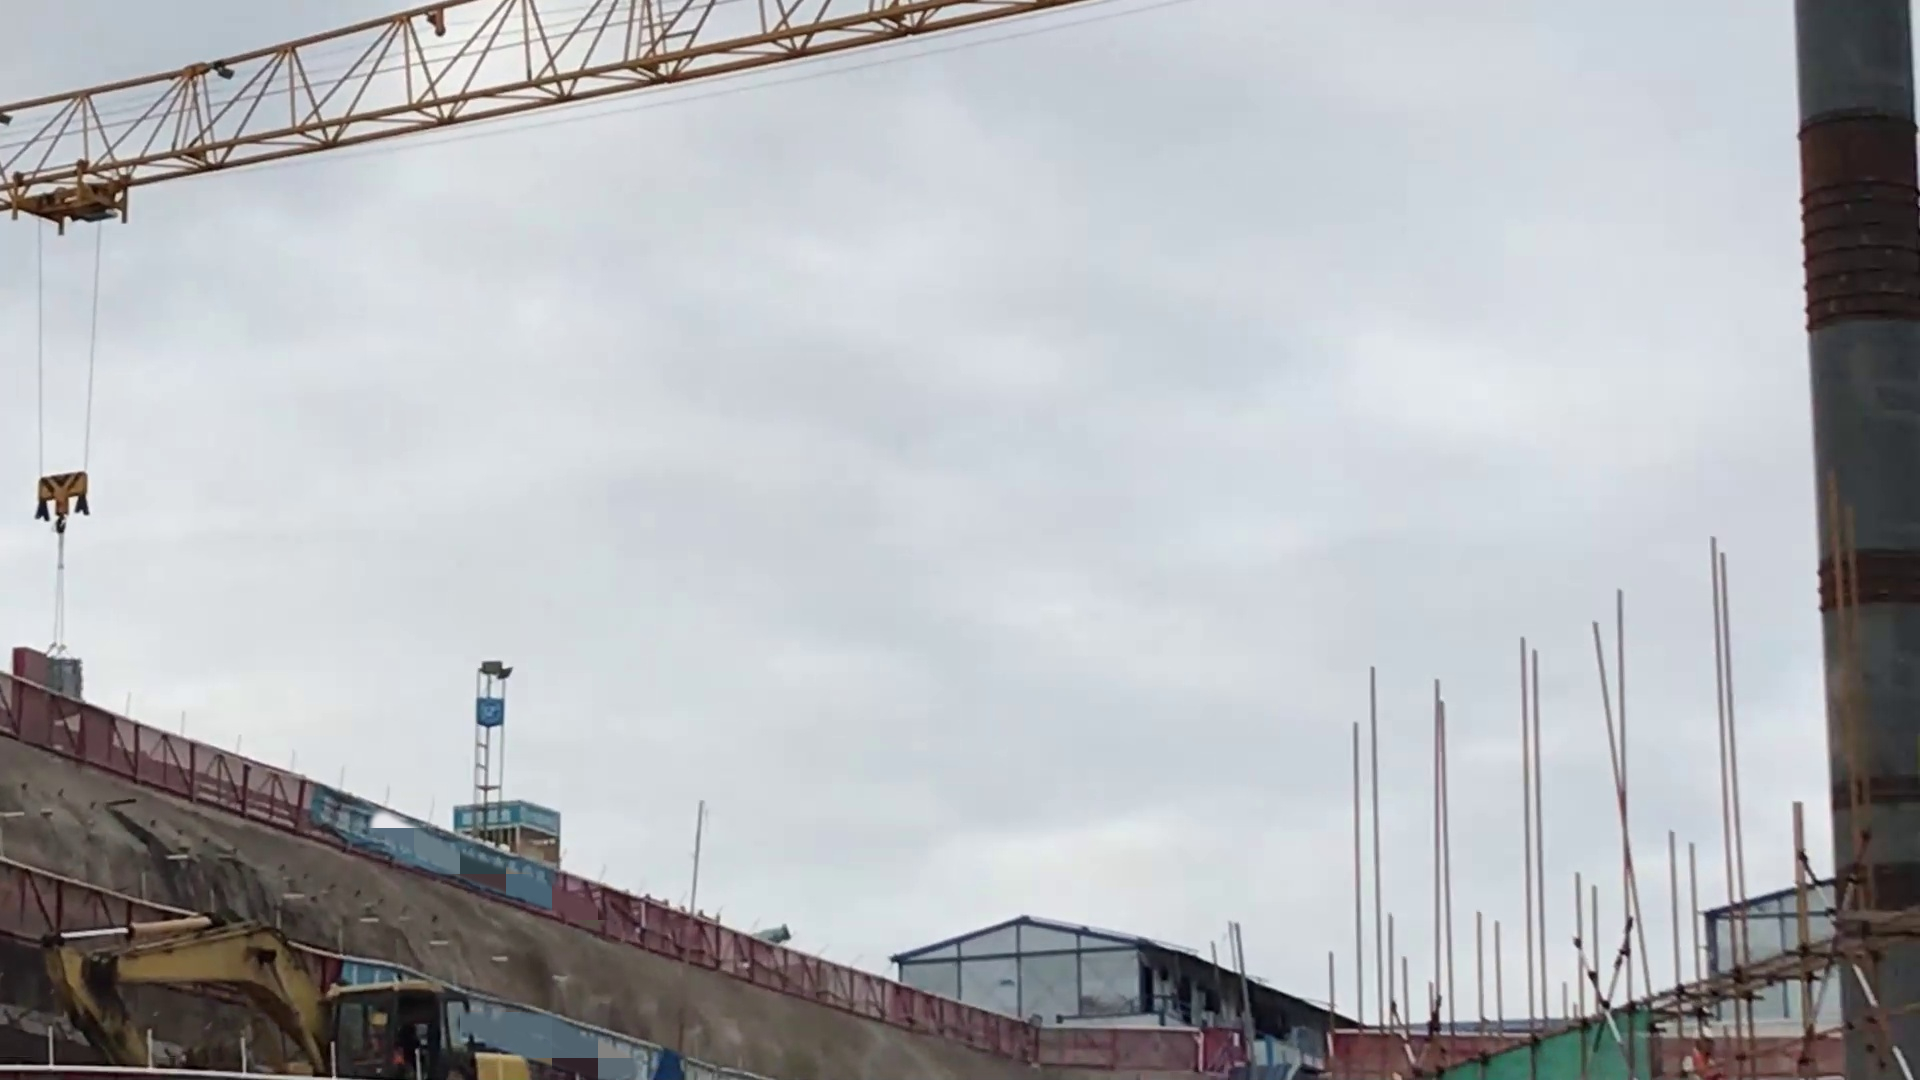hook: (34, 469, 95, 541)
